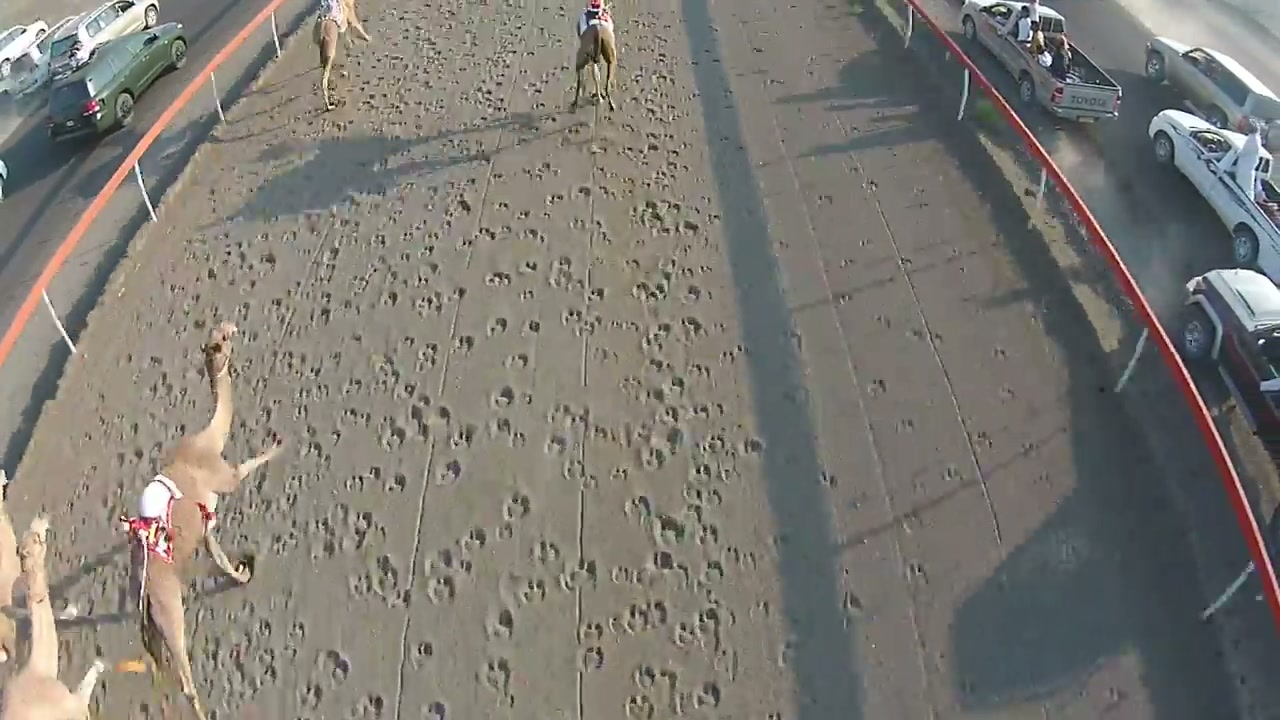animal_footprint: (188, 0, 770, 719), (423, 491, 531, 603), (626, 664, 721, 716), (579, 599, 671, 646), (308, 503, 386, 558), (296, 649, 350, 710), (349, 553, 409, 607), (671, 605, 734, 653), (610, 599, 669, 634), (498, 571, 548, 607), (479, 656, 514, 706), (557, 558, 598, 591), (317, 649, 351, 686), (487, 417, 527, 448), (428, 547, 473, 574), (345, 693, 391, 719), (425, 574, 456, 604), (486, 607, 515, 639), (502, 491, 532, 521), (530, 538, 562, 566), (624, 693, 656, 719), (691, 681, 720, 709), (458, 527, 488, 554), (434, 458, 463, 485), (408, 640, 434, 669), (517, 578, 546, 604), (450, 423, 478, 449), (578, 620, 605, 645), (581, 645, 604, 671), (544, 432, 569, 455), (422, 700, 449, 719)
